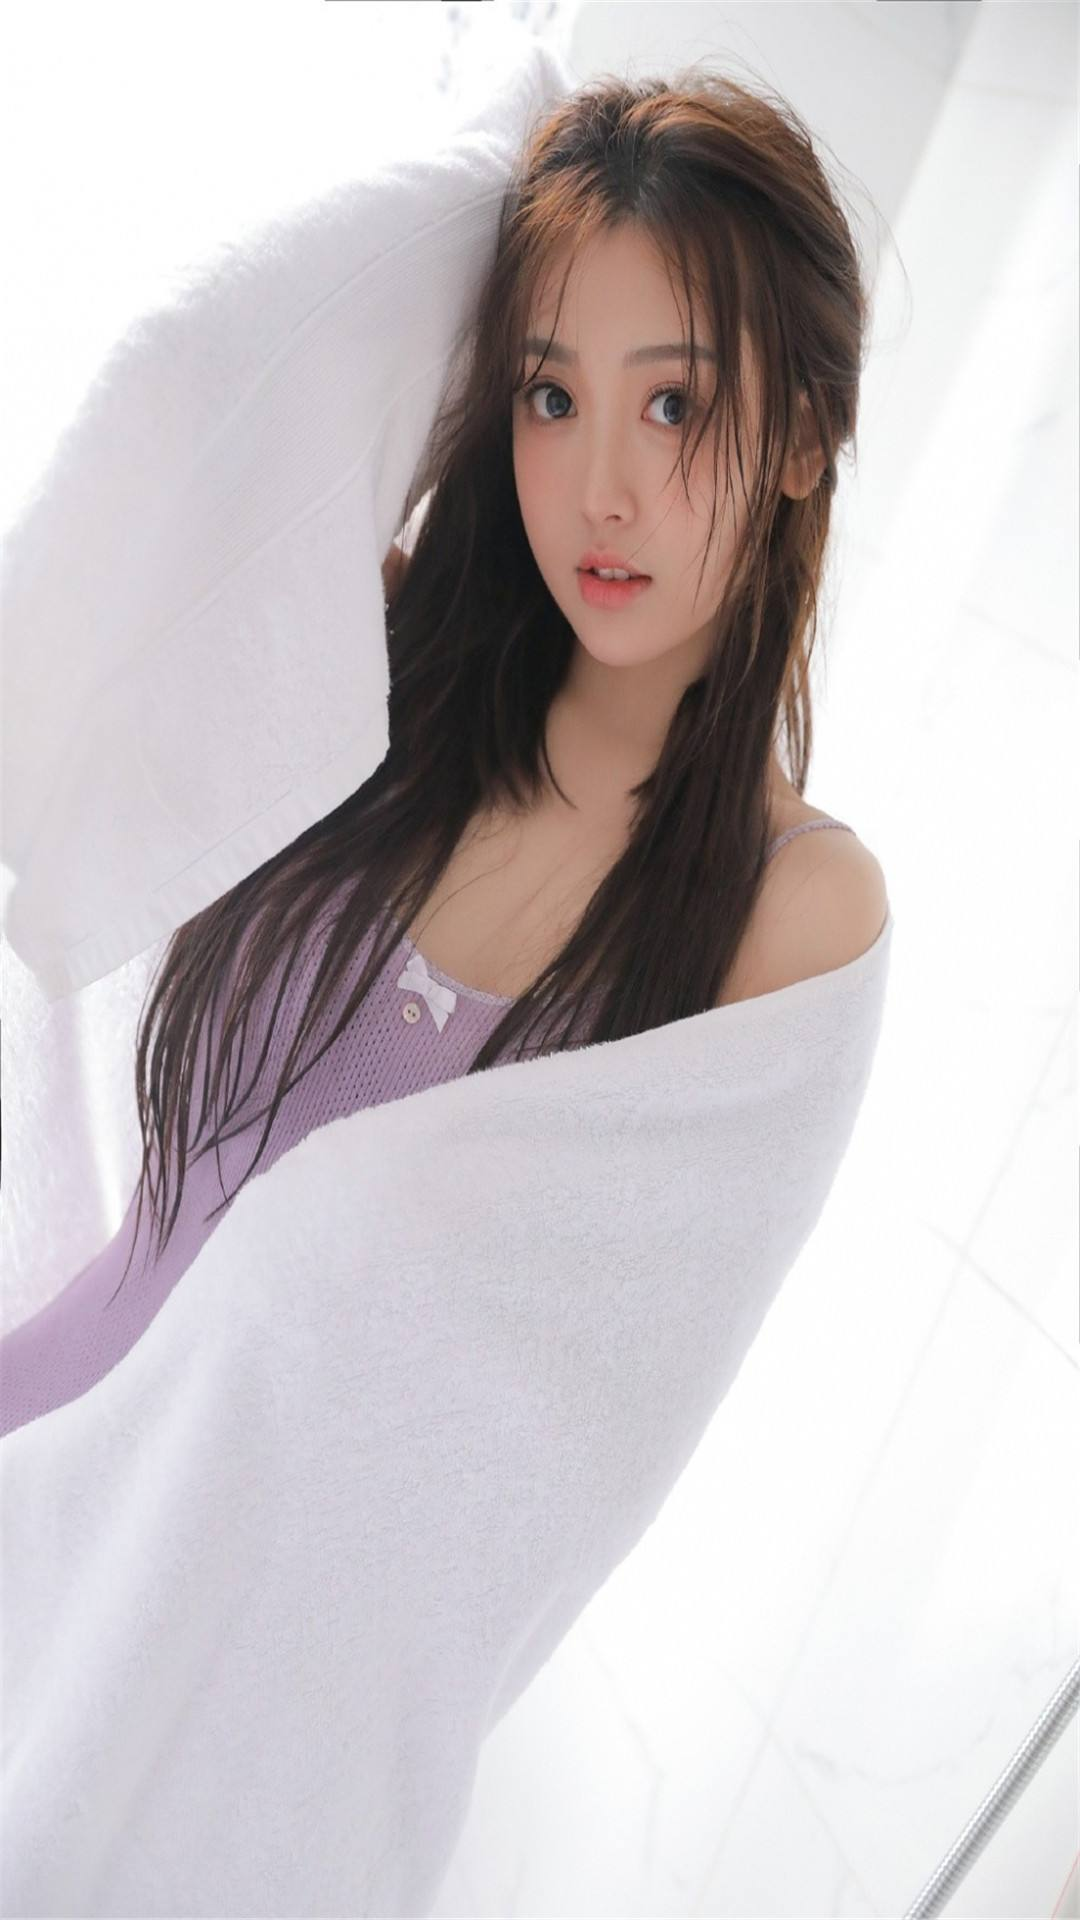person: (83, 106, 844, 1808)
